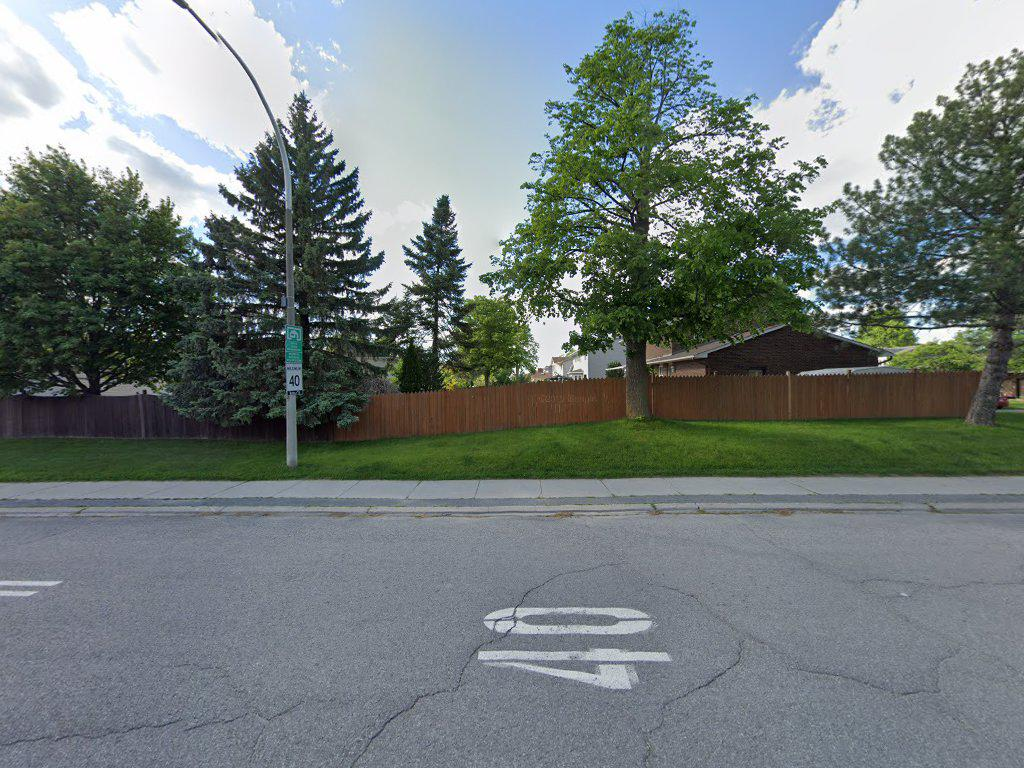trunk: (620, 331, 660, 441), (979, 315, 1011, 434)
